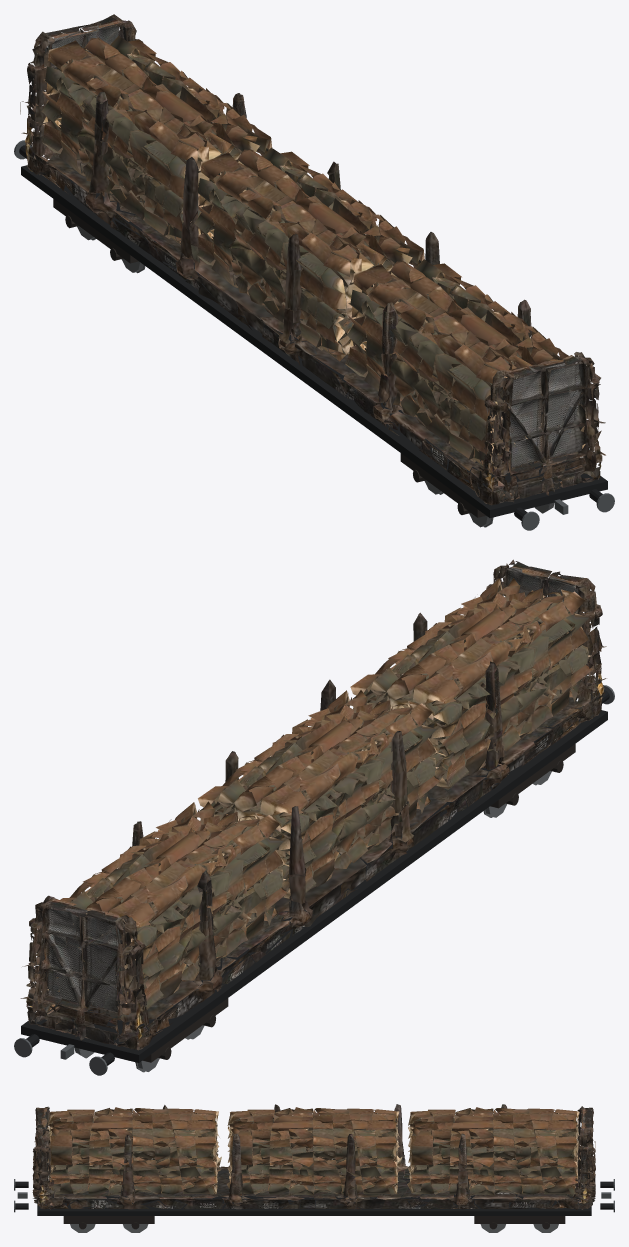
File: roos_t_m.glb
3 renders of one model, top to bottom at view 1: azimuth 30°, elevation 25°; view 2: azimuth 150°, elevation 25°; view 3: azimuth 270°, elevation 25°, orthographic. The views are drawn at different scales.
Visible parts, largest first — view 1: roos_t_kori, kuorma1, kuorma2, kuorma0, roos_t_frame, Bogie_F_side-1, Bogie_R_side-1; view 2: roos_t_kori, kuorma0, kuorma1, kuorma2, roos_t_frame, Bogie_R_side-1, Bogie_F_side-1; view 3: roos_t_kori, kuorma2, kuorma0, kuorma1, roos_t_frame, Bogie_F_side1, Bogie_R_side1.
Boxes of the visible parts, x1=… form: roos_t_kori: x1=20, y1=14, x2=605, y2=505; kuorma1: x1=194, y1=147, x2=428, y2=361; kuorma2: x1=41, y1=36, x2=275, y2=244; kuorma0: x1=345, y1=259, x2=588, y2=473; roos_t_frame: x1=21, y1=160, x2=607, y2=517; Bogie_F_side-1: x1=400, y1=453, x2=485, y2=517; Bogie_R_side-1: x1=53, y1=199, x2=138, y2=263; roos_t_kori: x1=20, y1=559, x2=606, y2=1050; kuorma0: x1=350, y1=578, x2=592, y2=789; kuorma1: x1=198, y1=690, x2=440, y2=899; kuorma2: x1=41, y1=801, x2=287, y2=1011; roos_t_frame: x1=21, y1=706, x2=607, y2=1062; Bogie_R_side-1: x1=143, y1=998, x2=228, y2=1062; Bogie_F_side-1: x1=490, y1=744, x2=575, y2=808; roos_t_kori: x1=32, y1=1104, x2=595, y2=1209; kuorma2: x1=407, y1=1107, x2=580, y2=1195; kuorma0: x1=47, y1=1107, x2=221, y2=1195; kuorma1: x1=226, y1=1107, x2=402, y2=1195; roos_t_frame: x1=37, y1=1177, x2=591, y2=1215; Bogie_F_side1: x1=63, y1=1216, x2=154, y2=1223; Bogie_R_side1: x1=474, y1=1216, x2=565, y2=1223.
Size of the model in its own units: 3.02 by 3.99 by 20.49.
6 materials, 2 textured.
